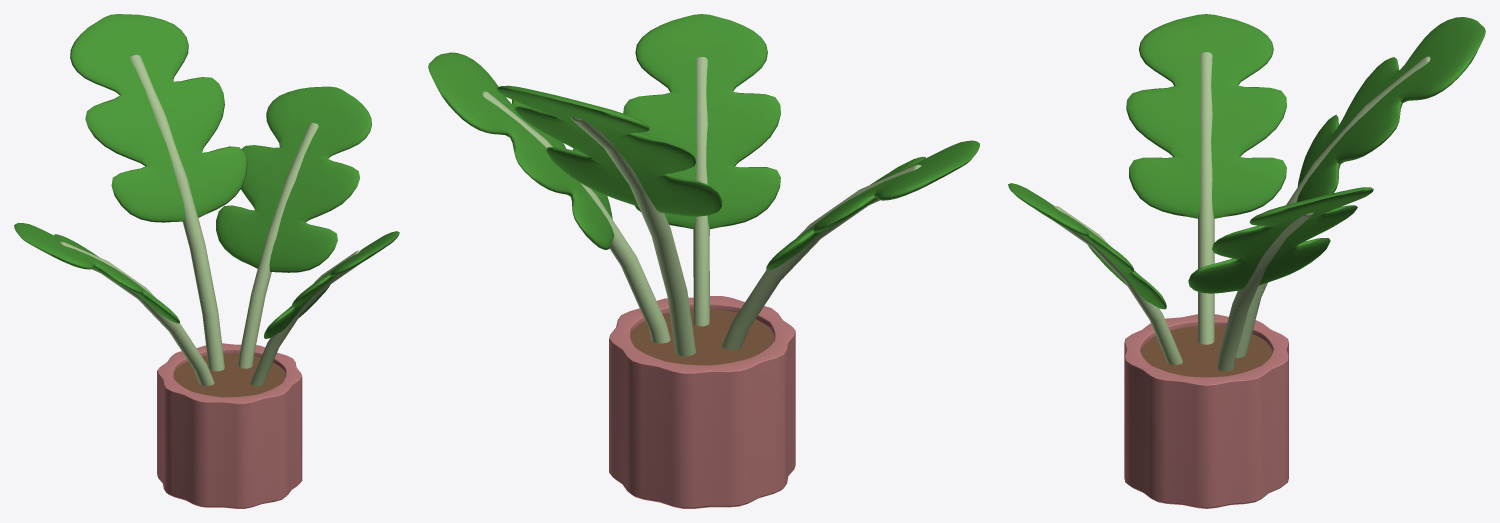
File: Vase_1.glb
The picture shows the model from 3 angles, left to right: view 1: azimuth 30°, elevation 25°; view 2: azimuth 150°, elevation 25°; view 3: azimuth 270°, elevation 25°; orthographic projection. The views are drawn at different scales.
Parts seen in each view (by area): view 1: Plant_44; view 2: Plant_44; view 3: Plant_44.
Boxes of the visible parts, bbox=[...] form: Plant_44: bbox=[14, 14, 399, 508]; Plant_44: bbox=[428, 14, 979, 508]; Plant_44: bbox=[1008, 14, 1485, 508].
Size of the model in its own units: 1.34 by 1.29 by 1.26.
Materials: 1 (1 with a texture image).
